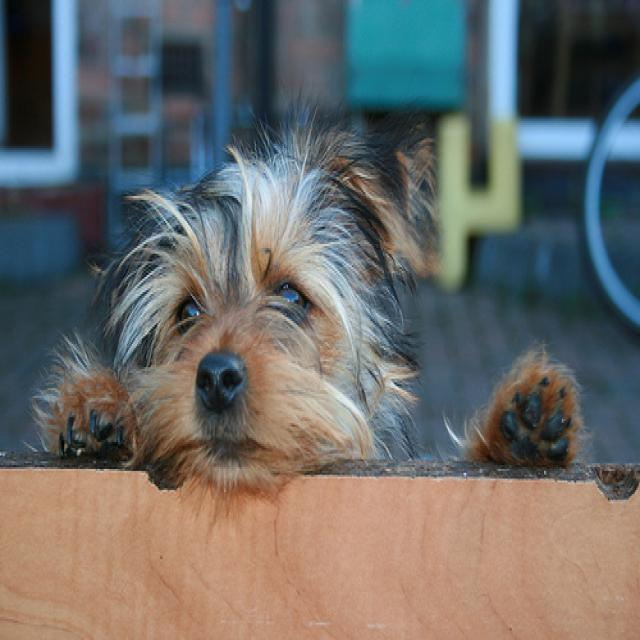dog-yorkshire_terrier: (26, 92, 438, 509)
